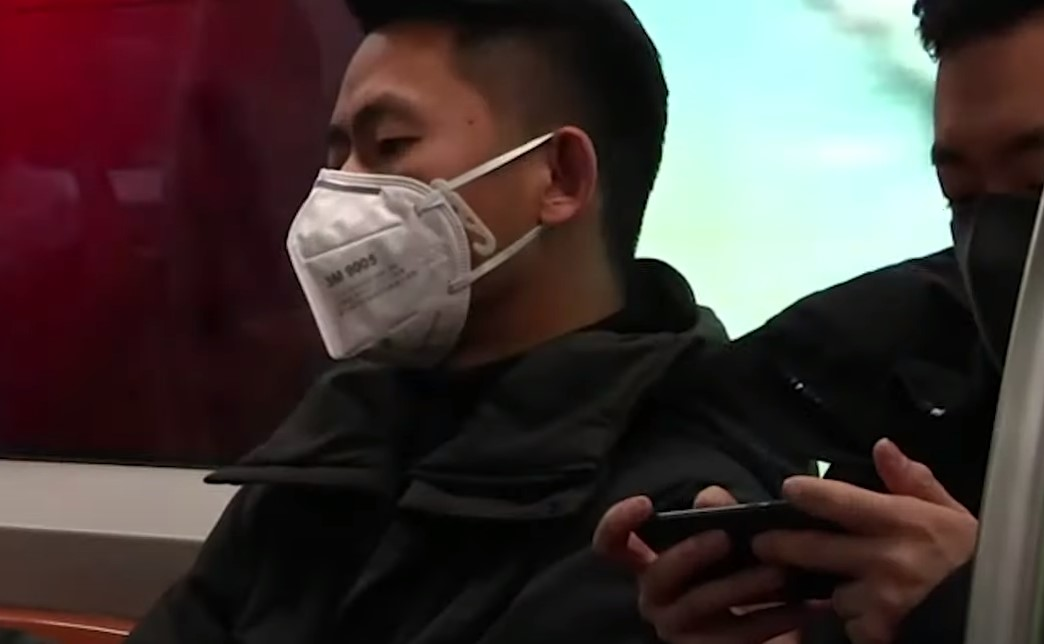face_with_mask: (286, 6, 666, 362)
